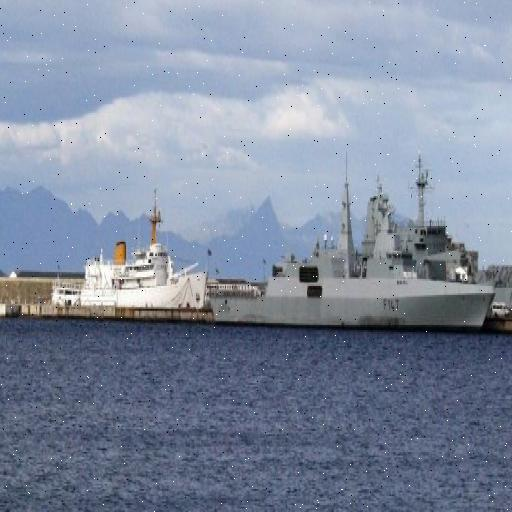Fragata: (205, 146, 500, 340)
